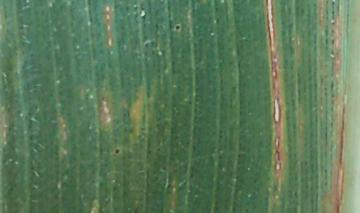tarspot: (174, 24, 181, 31), (114, 149, 120, 154)
